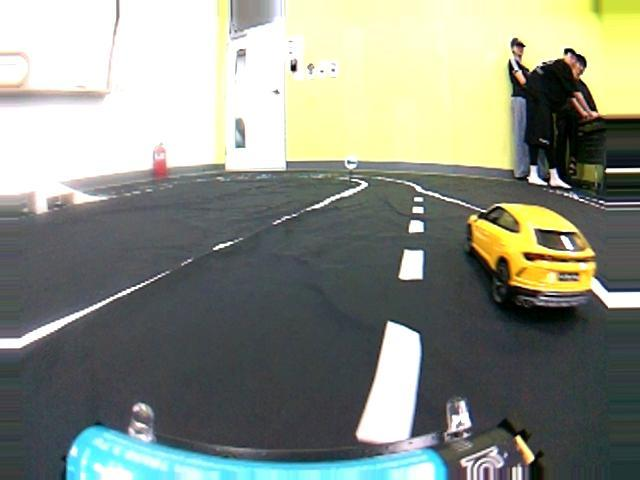car: (465, 196, 607, 316)
left: (4, 213, 640, 479)
